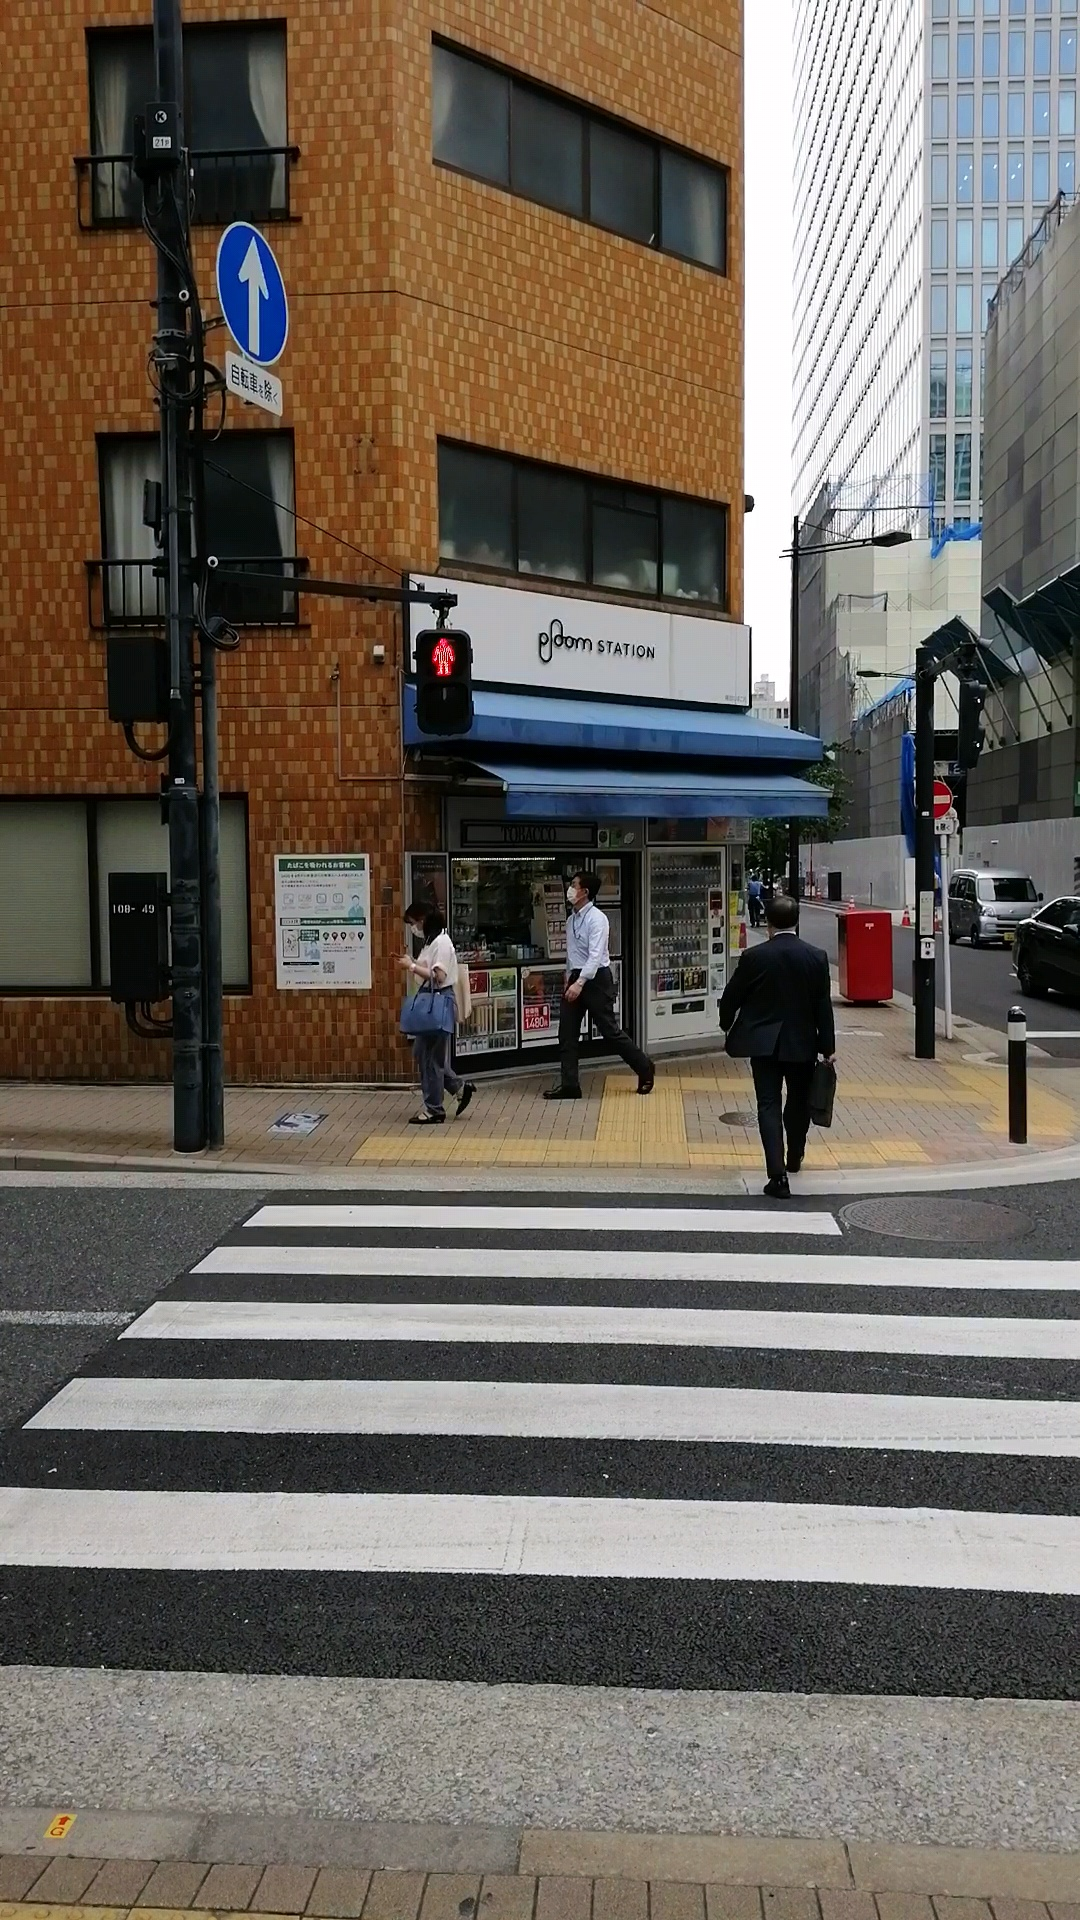red: (415, 630, 471, 735)
